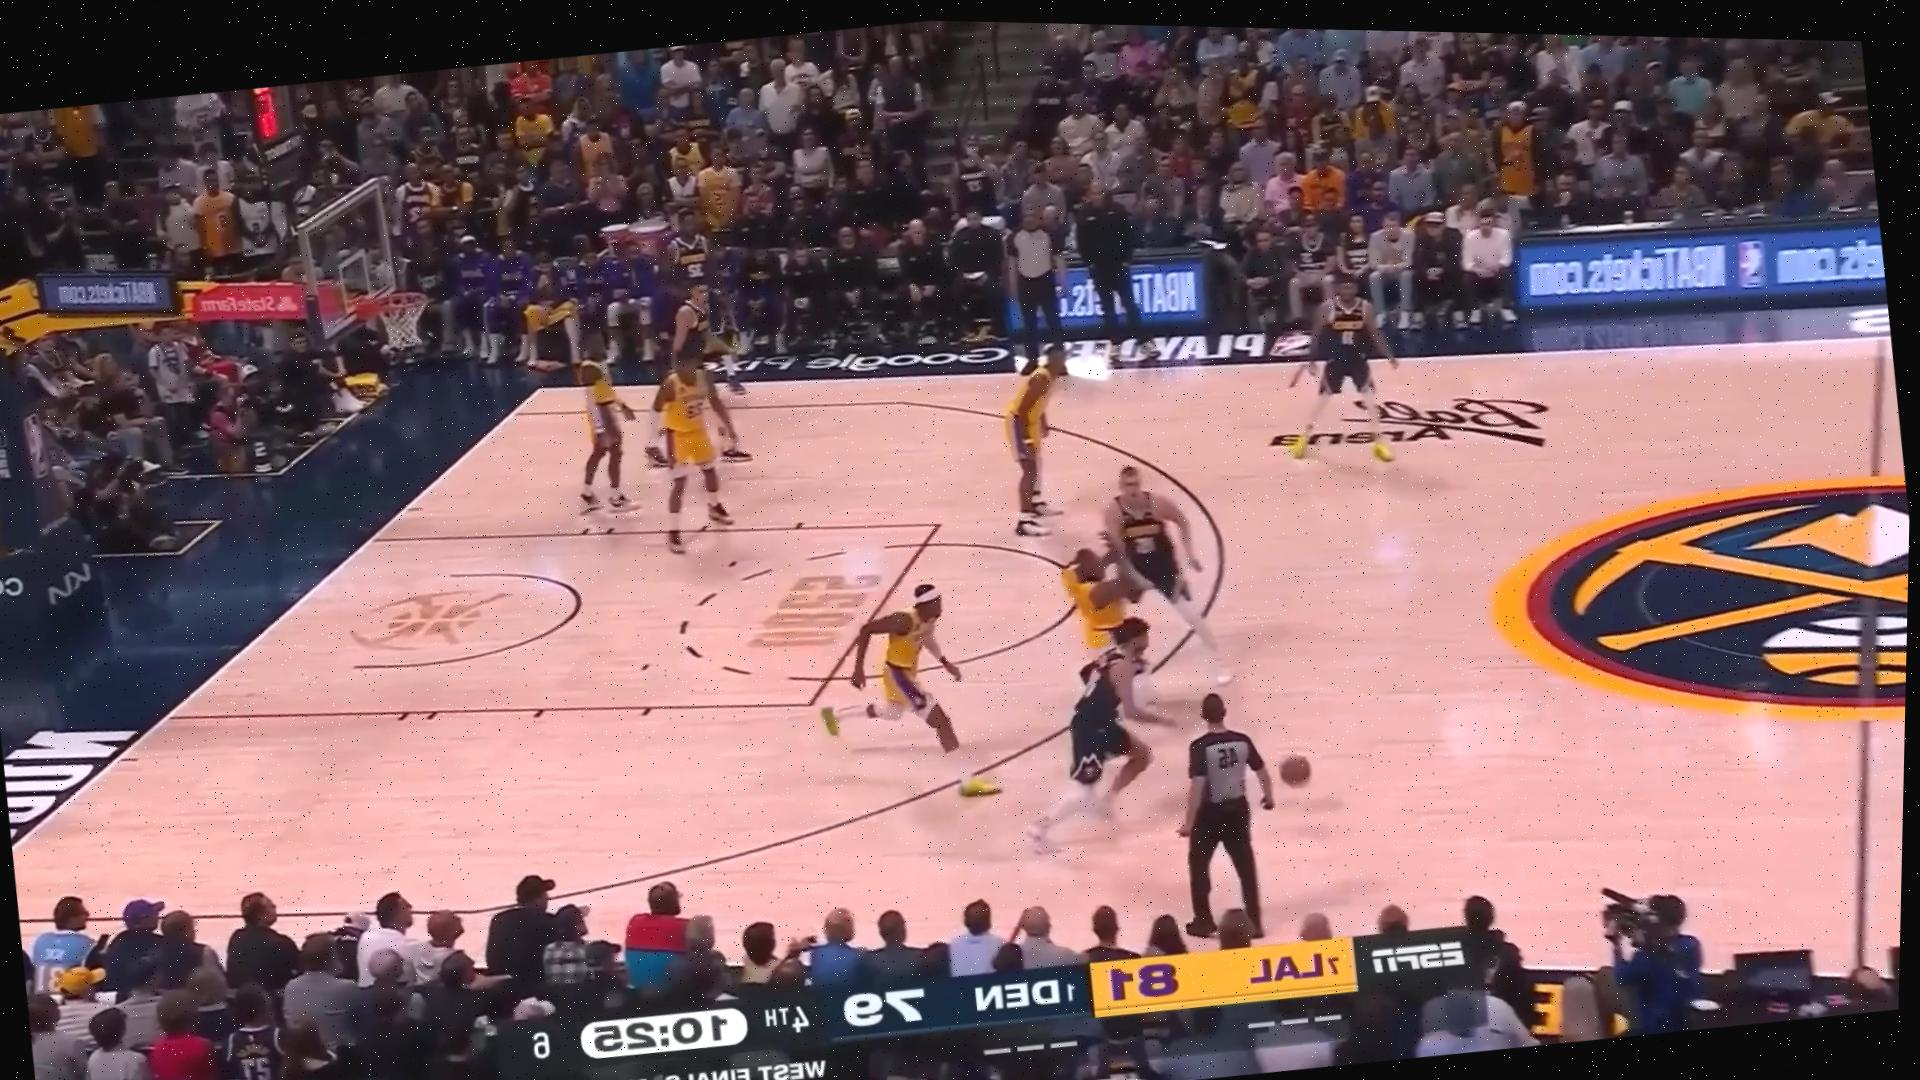foul: (1025, 452, 1243, 709)
